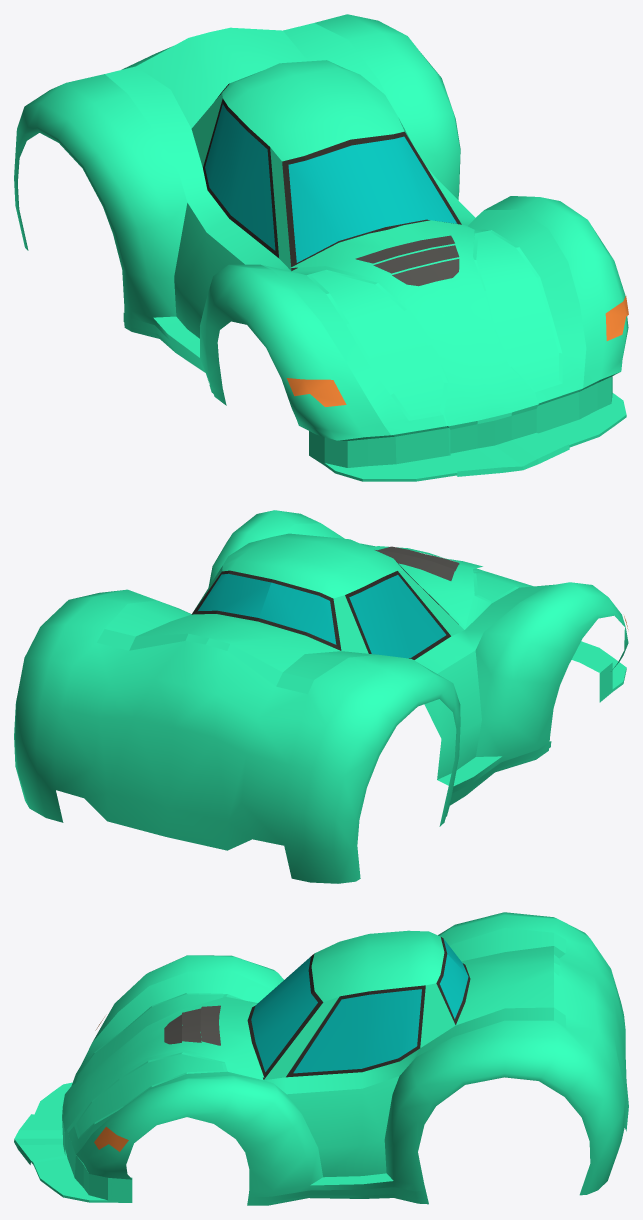
Rendered from LuxCasing00C01.gltf.
3 views of the same model, one above another, from view 1: azimuth 30°, elevation 25°; view 2: azimuth 150°, elevation 25°; view 3: azimuth 270°, elevation 25° (orthographic). The views are drawn at different scales.
Visible parts, largest first — view 1: LuxCasing00C01; view 2: LuxCasing00C01; view 3: LuxCasing00C01.
Boxes of the visible parts, x1,y1,x2,y2 form: LuxCasing00C01: [14, 14, 628, 481]; LuxCasing00C01: [14, 510, 628, 883]; LuxCasing00C01: [14, 912, 628, 1205].
Size of the model in its own units: 0.2129 by 0.129 by 0.3654.
